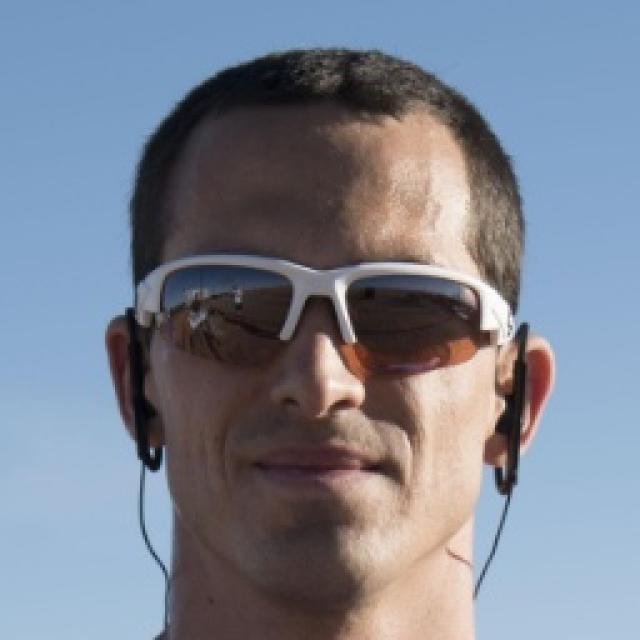glasses: (111, 240, 522, 385)
